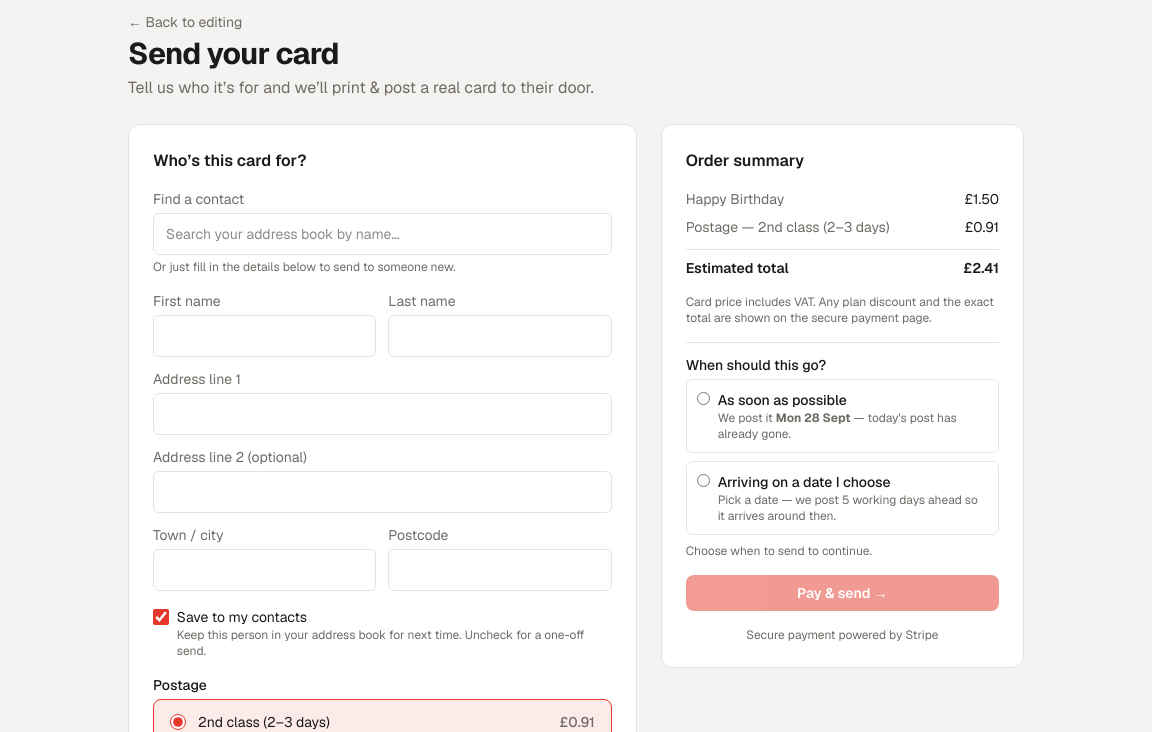
Test: SendCardClient — the contact typeahead › ignores a slow response for a query the sender has moved past
The image size is (1152, 732).
Type "ab" into the field labelled "Find a contact".
click(382, 234); type("ab")  # box [153,213,612,255]
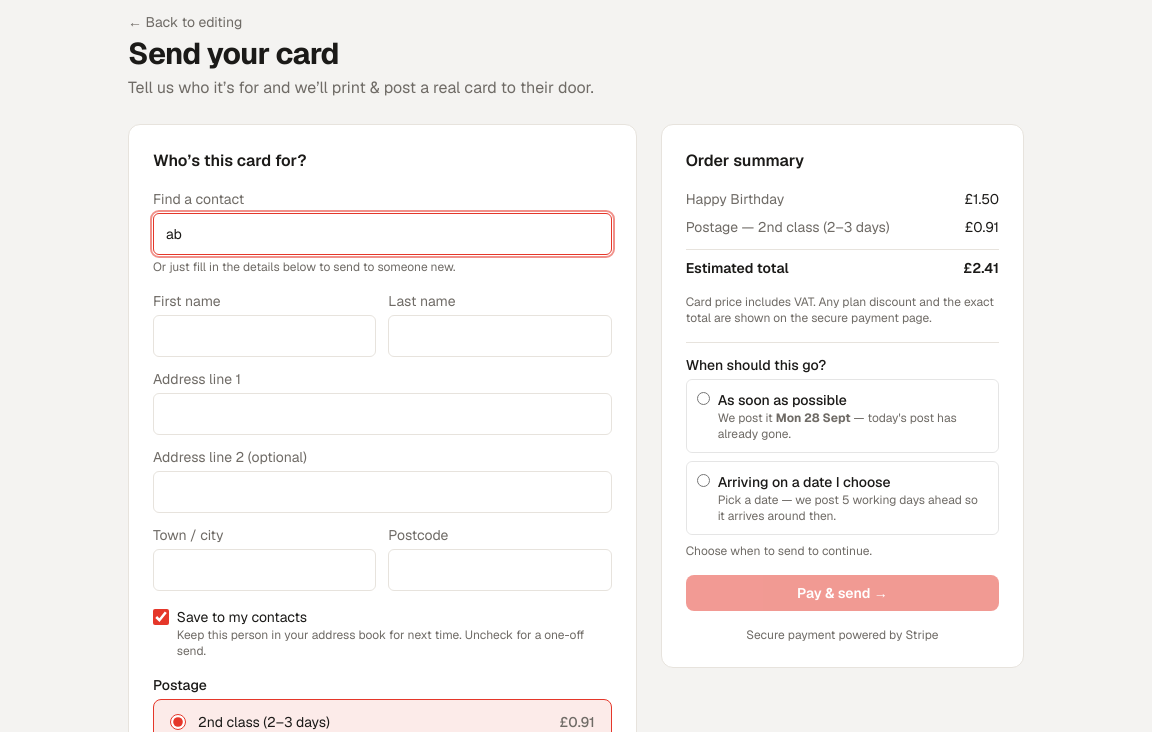
Type "c" into the field labelled "Find a contact".
click(382, 234); type("c")  # box [153,213,612,255]
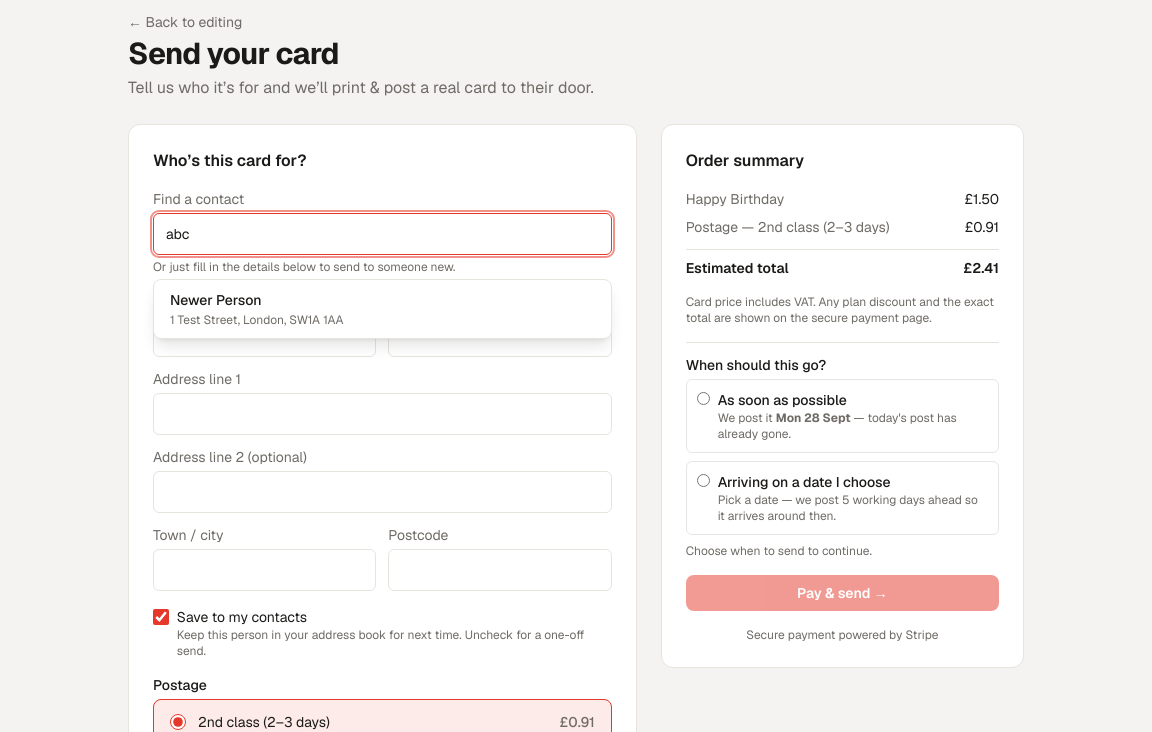
Now the number of buttons "Newer Person 1 Test Street, London, SW1A 1AA" is 1, box [154,280,611,338]
